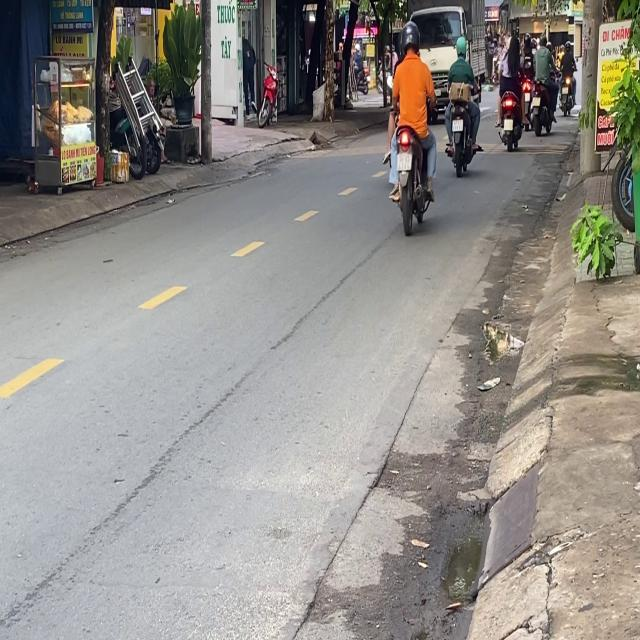helmet: (401, 20, 421, 55), (454, 35, 467, 57)
licenseplate: (381, 19, 438, 232), (442, 34, 482, 174)
nohelmet: (396, 152, 411, 170), (452, 118, 462, 130)
